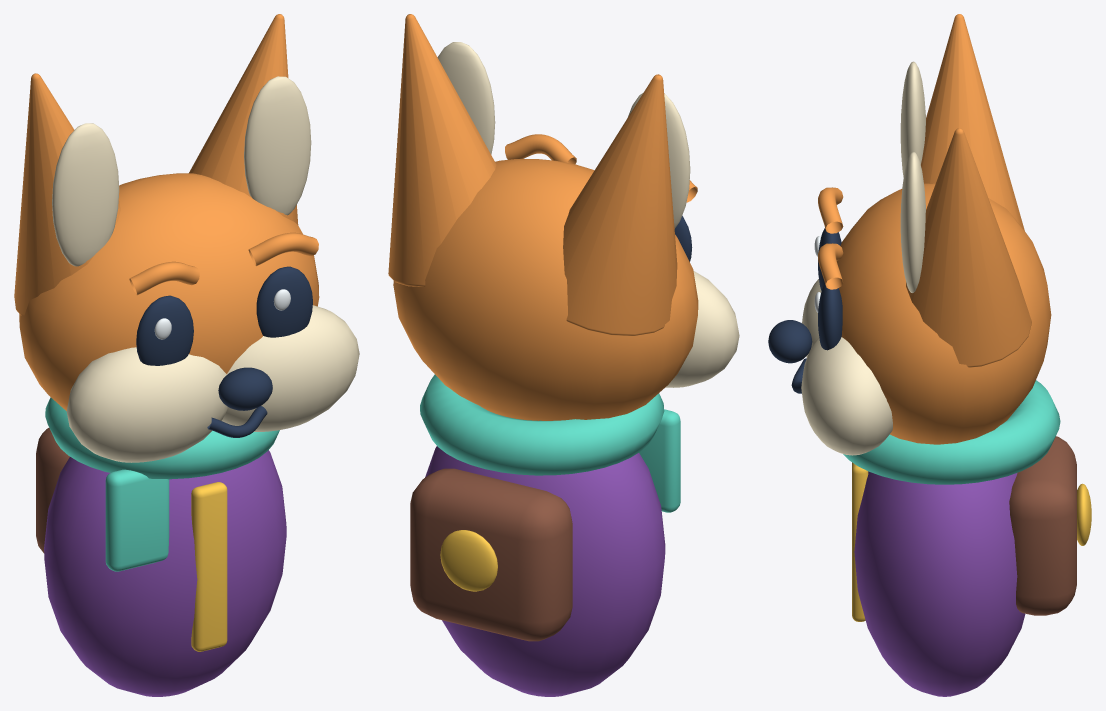
File: fox.glb
3 views of the same model, side by side, from view 1: azimuth 30°, elevation 25°; view 2: azimuth 150°, elevation 25°; view 3: azimuth 270°, elevation 25° (orthographic). The views are drawn at different scales.
Parts seen in each view (by area): view 1: fox body; view 2: fox body; view 3: fox body.
Boxes of the visible parts, <box> form: fox body: <box>14,14,359,696</box>; fox body: <box>388,14,739,696</box>; fox body: <box>768,14,1091,696</box>.
Size of the model in its own units: 0.86 by 1.85 by 0.88.
